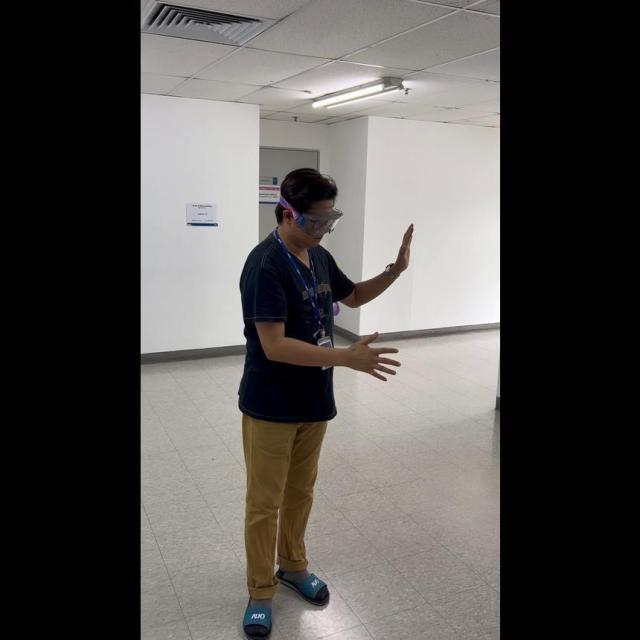bare_hand: (345, 325, 400, 377), (386, 219, 414, 279)
